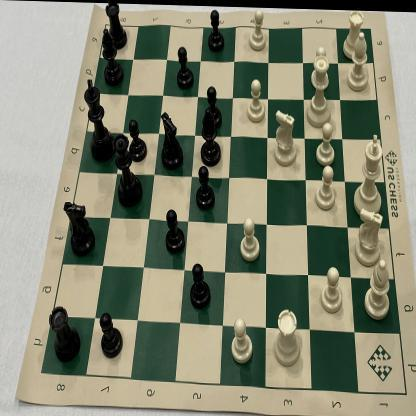black-bishop: (100, 26, 124, 87), (200, 106, 221, 167)
black-king: (81, 76, 116, 162)
black-knight: (64, 198, 95, 257), (159, 110, 185, 170)
black-pawn: (98, 310, 124, 361), (189, 259, 211, 313), (165, 206, 186, 256), (195, 164, 215, 211), (176, 43, 195, 92), (128, 117, 148, 163), (204, 83, 223, 129), (207, 7, 225, 51)
black-queen: (114, 133, 142, 209)
black-rook: (48, 304, 80, 363), (104, 2, 128, 48)
white-bishop: (364, 257, 391, 320), (347, 29, 371, 92)
white-king: (352, 129, 385, 216)
white-knight: (354, 206, 385, 265), (272, 108, 297, 168)
white-pawn: (230, 314, 254, 366), (319, 264, 343, 313), (239, 214, 261, 264), (315, 163, 337, 210), (246, 75, 266, 123), (315, 119, 335, 165), (247, 6, 267, 52), (311, 43, 329, 90)
white-queen: (304, 53, 334, 127)
white-rook: (272, 305, 301, 368), (341, 8, 364, 60)
